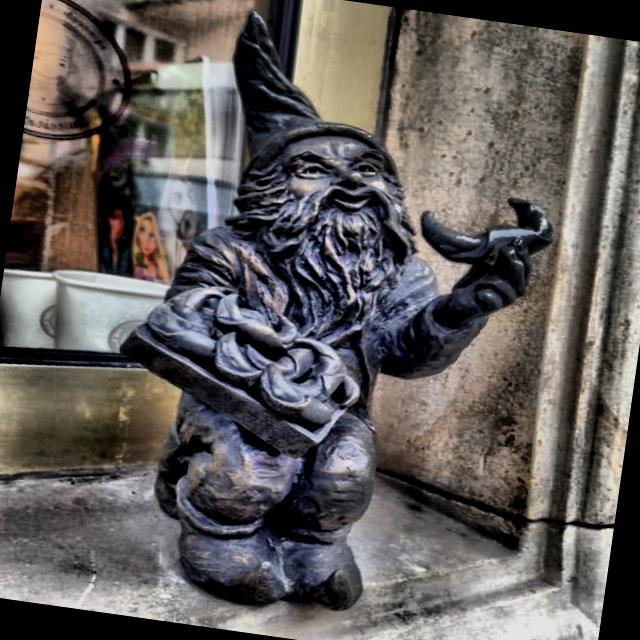Rogalik: (119, 12, 552, 613)
